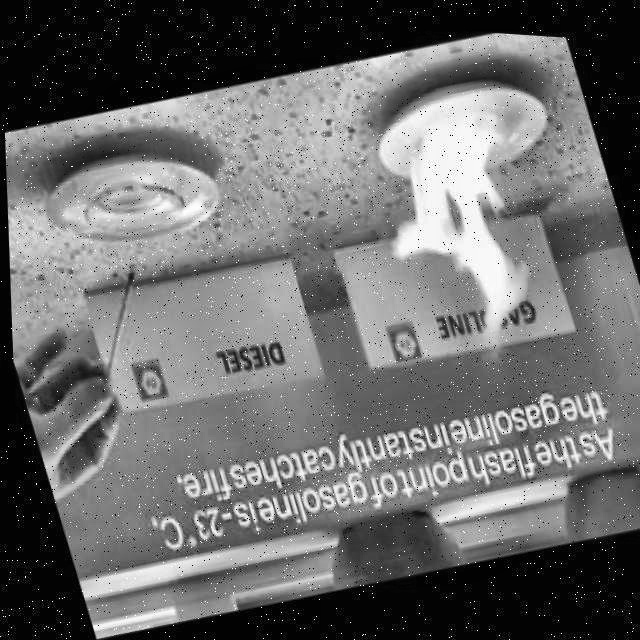Fire: (355, 104, 549, 369)
